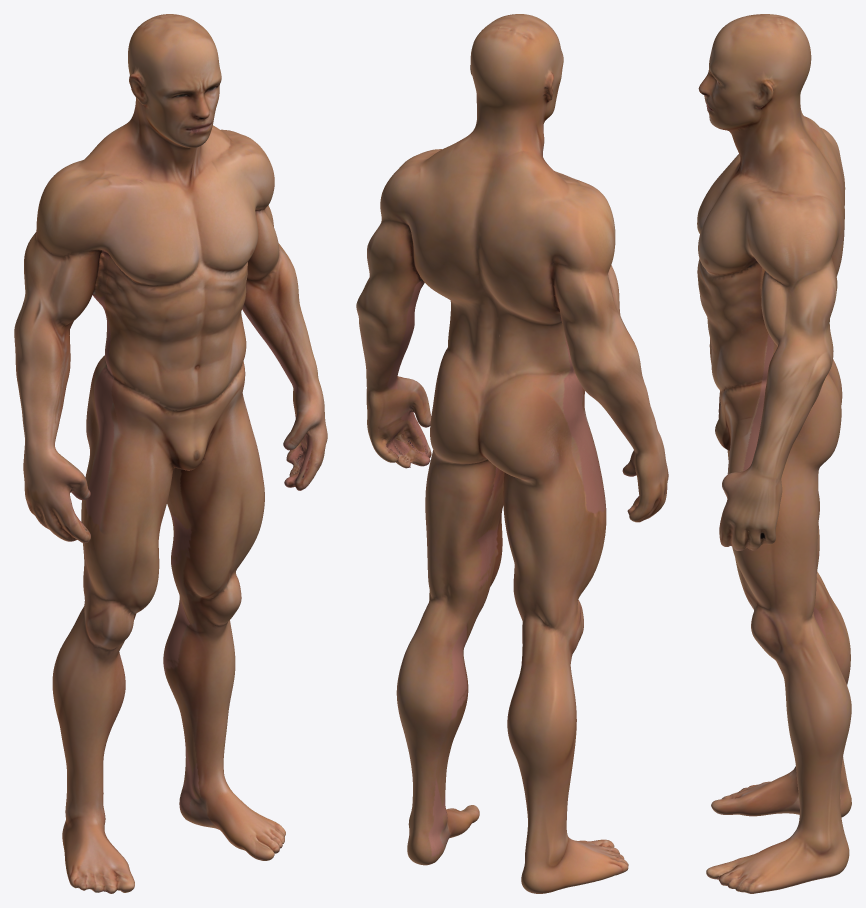
File: adultmale.glb
The picture shows the model from 3 angles, left to right: view 1: azimuth 30°, elevation 25°; view 2: azimuth 150°, elevation 25°; view 3: azimuth 270°, elevation 25°; orthographic projection.
Size of the model in its own units: 0.7297 by 1.99 by 0.3382.
1 material, 1 textured.
